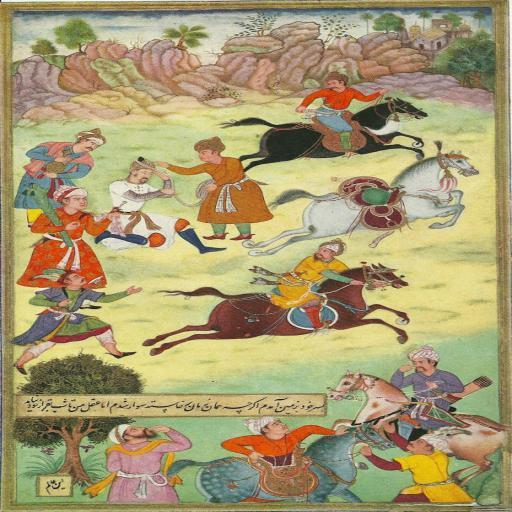horse: (242, 148, 480, 260), (140, 264, 410, 358), (323, 370, 511, 492), (161, 418, 397, 506), (216, 94, 428, 177)
